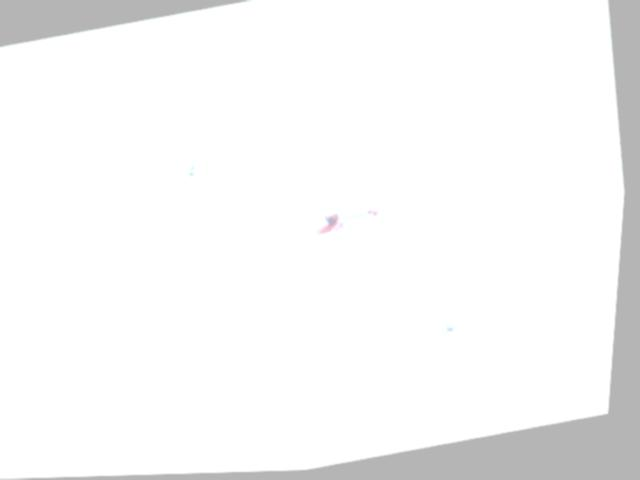uav: (302, 183, 397, 250)
